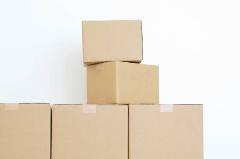paper: (52, 104, 128, 158), (129, 104, 203, 158), (86, 62, 160, 104), (0, 103, 50, 159), (82, 19, 142, 65)
